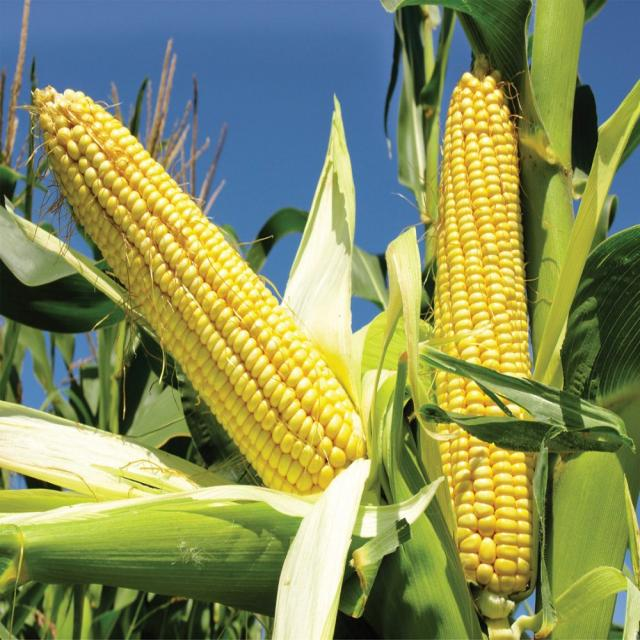Corn ear: (161, 227, 361, 485), (433, 67, 531, 360), (43, 90, 184, 289), (451, 436, 541, 595)
